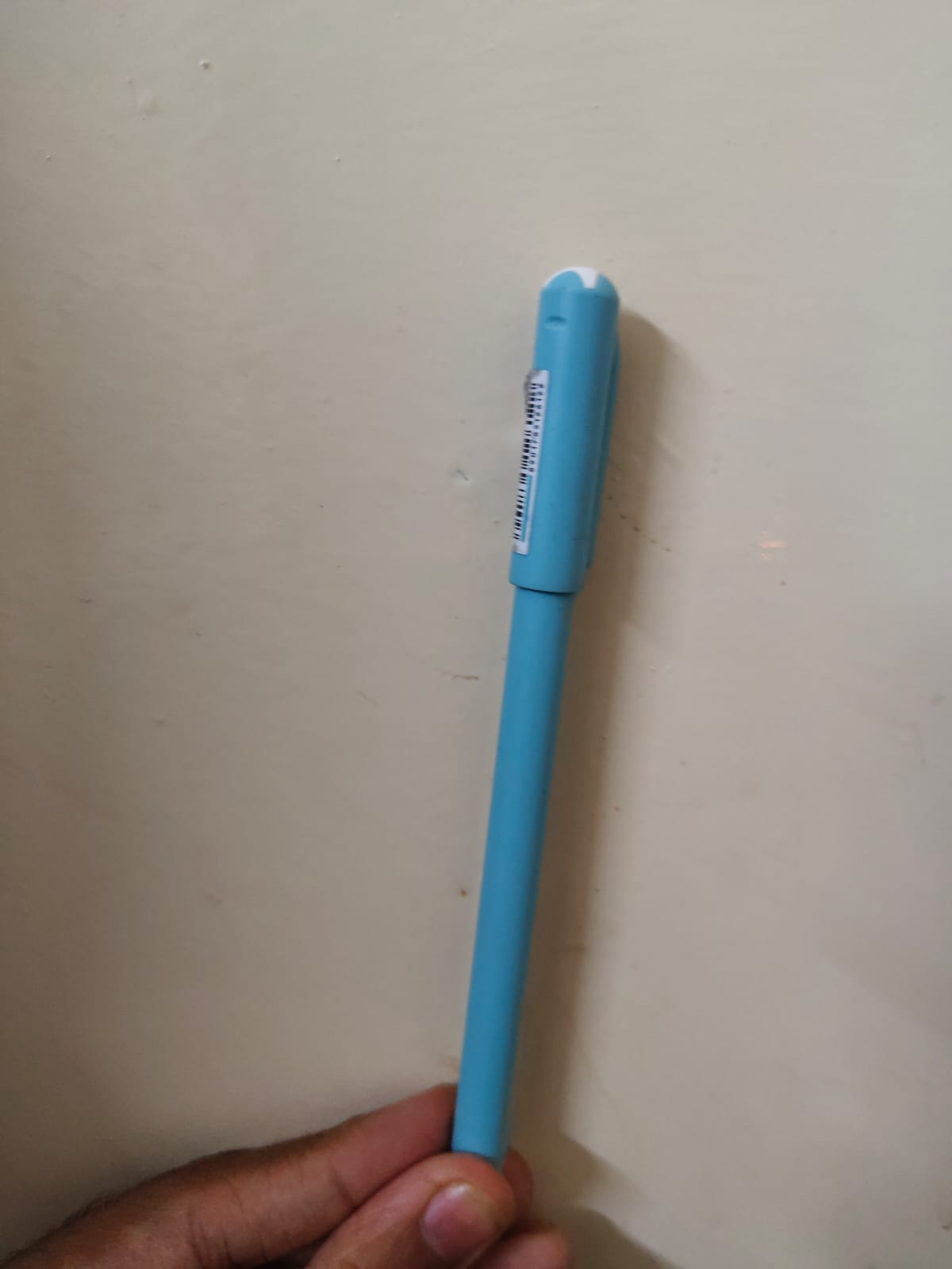pen: (369, 234, 699, 1190)
